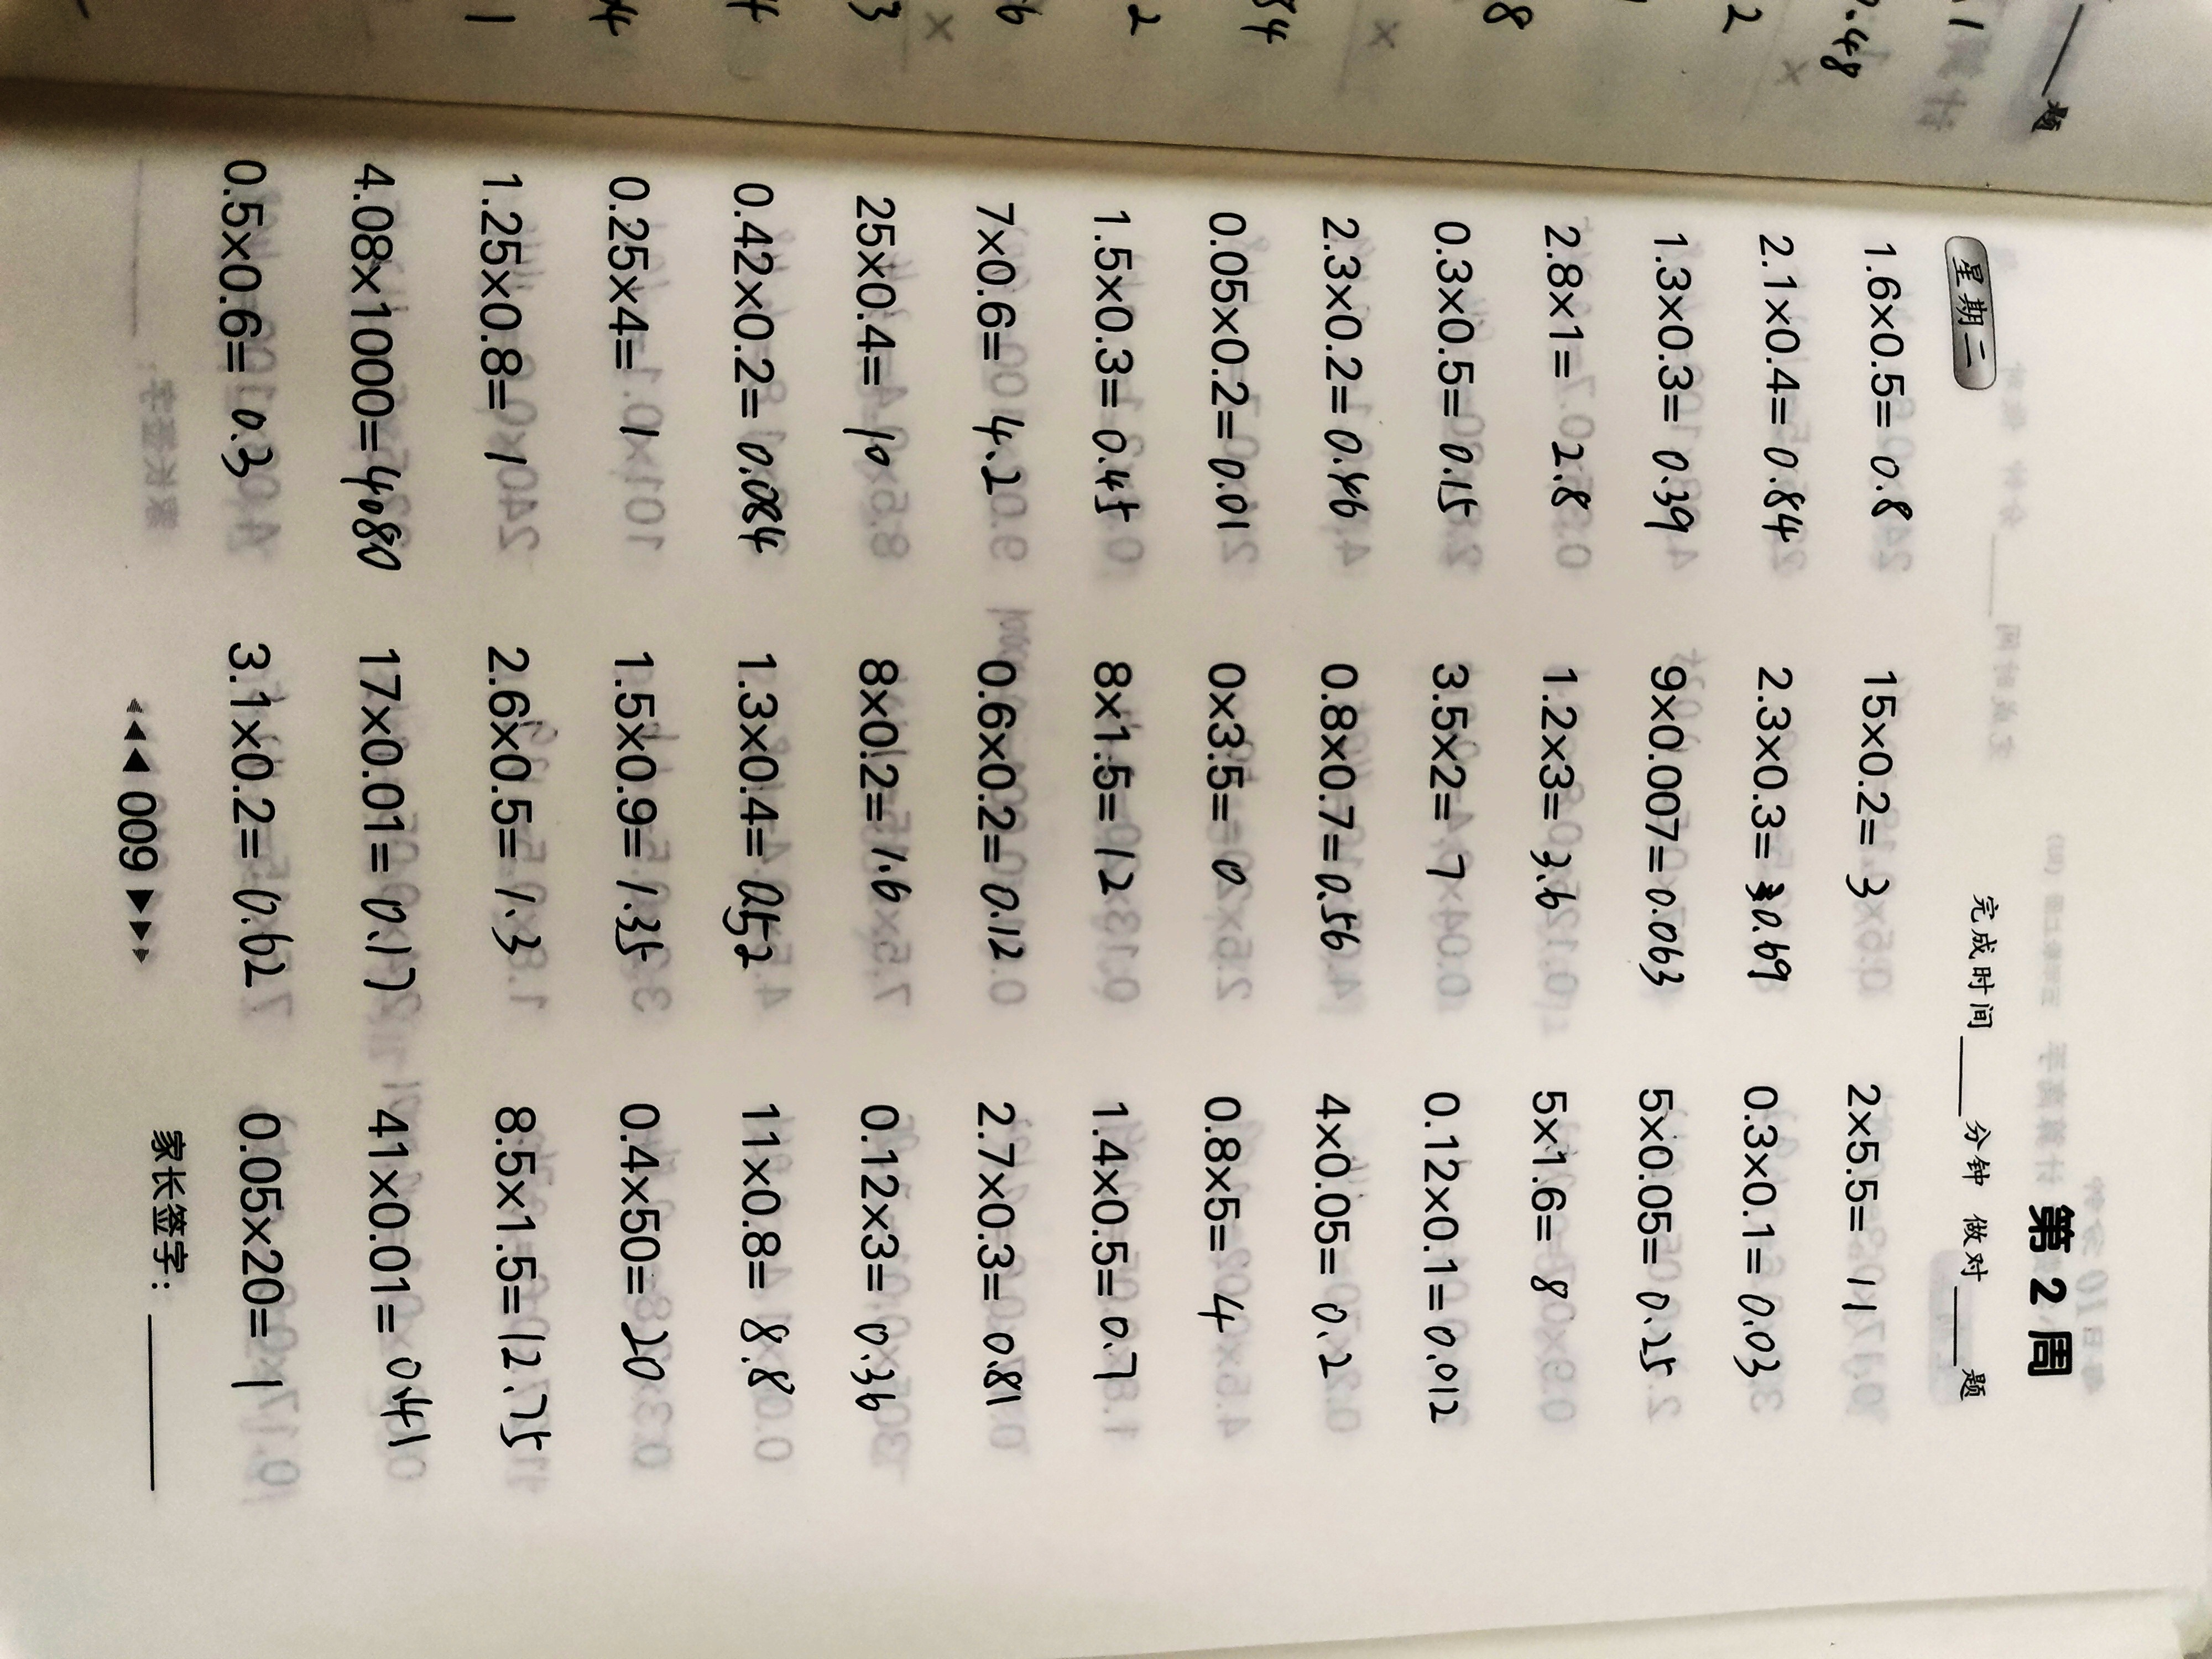equation: (211, 1347, 789, 1410), (827, 1427, 1339, 1490), (226, 1061, 759, 1121), (186, 1436, 669, 1500), (843, 871, 1320, 934), (1442, 1328, 1961, 1385), (850, 1335, 1345, 1394), (841, 1148, 1305, 1211), (1440, 1241, 1954, 1295), (1435, 1051, 1878, 1114), (239, 967, 658, 1032), (265, 708, 728, 765), (860, 378, 1338, 434), (289, 371, 725, 432), (860, 1058, 1308, 1117), (293, 293, 732, 352), (1454, 1431, 1895, 1488), (873, 303, 1334, 357), (850, 622, 1280, 680), (857, 457, 1251, 519), (1433, 795, 1876, 850), (204, 1248, 641, 1303), (240, 885, 688, 939), (838, 1249, 1298, 1302), (273, 620, 718, 674), (275, 538, 712, 592), (219, 1154, 629, 1211), (1446, 976, 1902, 1026), (871, 220, 1237, 282), (1425, 312, 1864, 364), (1447, 1148, 1867, 1202), (251, 798, 712, 847), (1433, 551, 1909, 598), (280, 458, 702, 511), (855, 969, 1244, 1021), (848, 709, 1217, 763), (1442, 889, 1895, 932), (305, 216, 718, 263), (1423, 390, 1851, 436), (1440, 713, 1797, 767), (1439, 638, 1858, 683), (855, 796, 1219, 847), (1428, 237, 1780, 288), (871, 545, 1202, 596), (1418, 469, 1768, 512)
